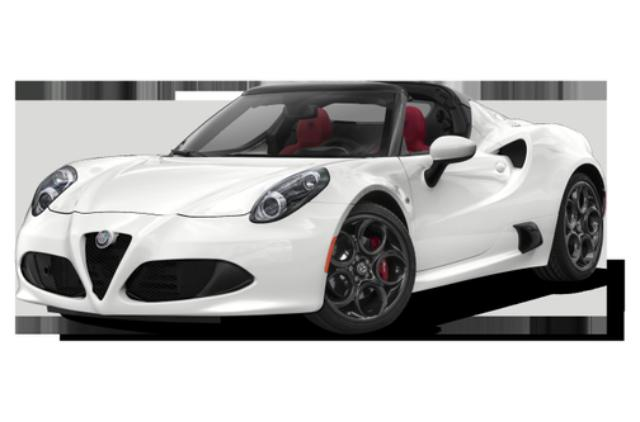alpha-romeo: (14, 78, 608, 338)
